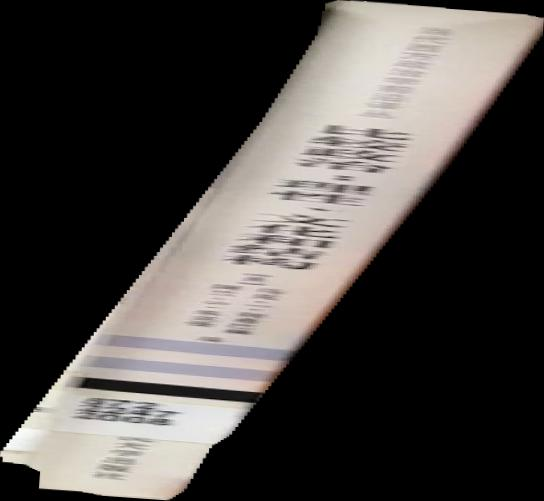book: (1, 1, 544, 501)
